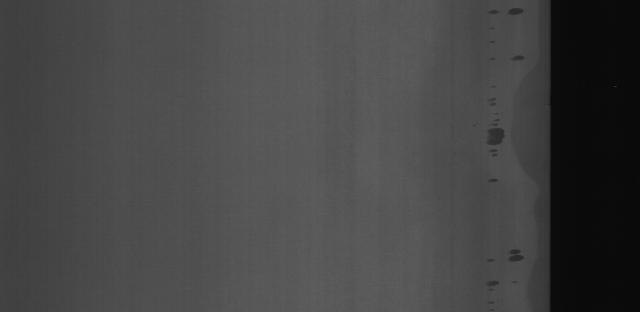oil_spot: (484, 90, 508, 185), (482, 252, 503, 306), (484, 6, 502, 68), (502, 237, 526, 269), (510, 54, 530, 68), (506, 7, 526, 18)
